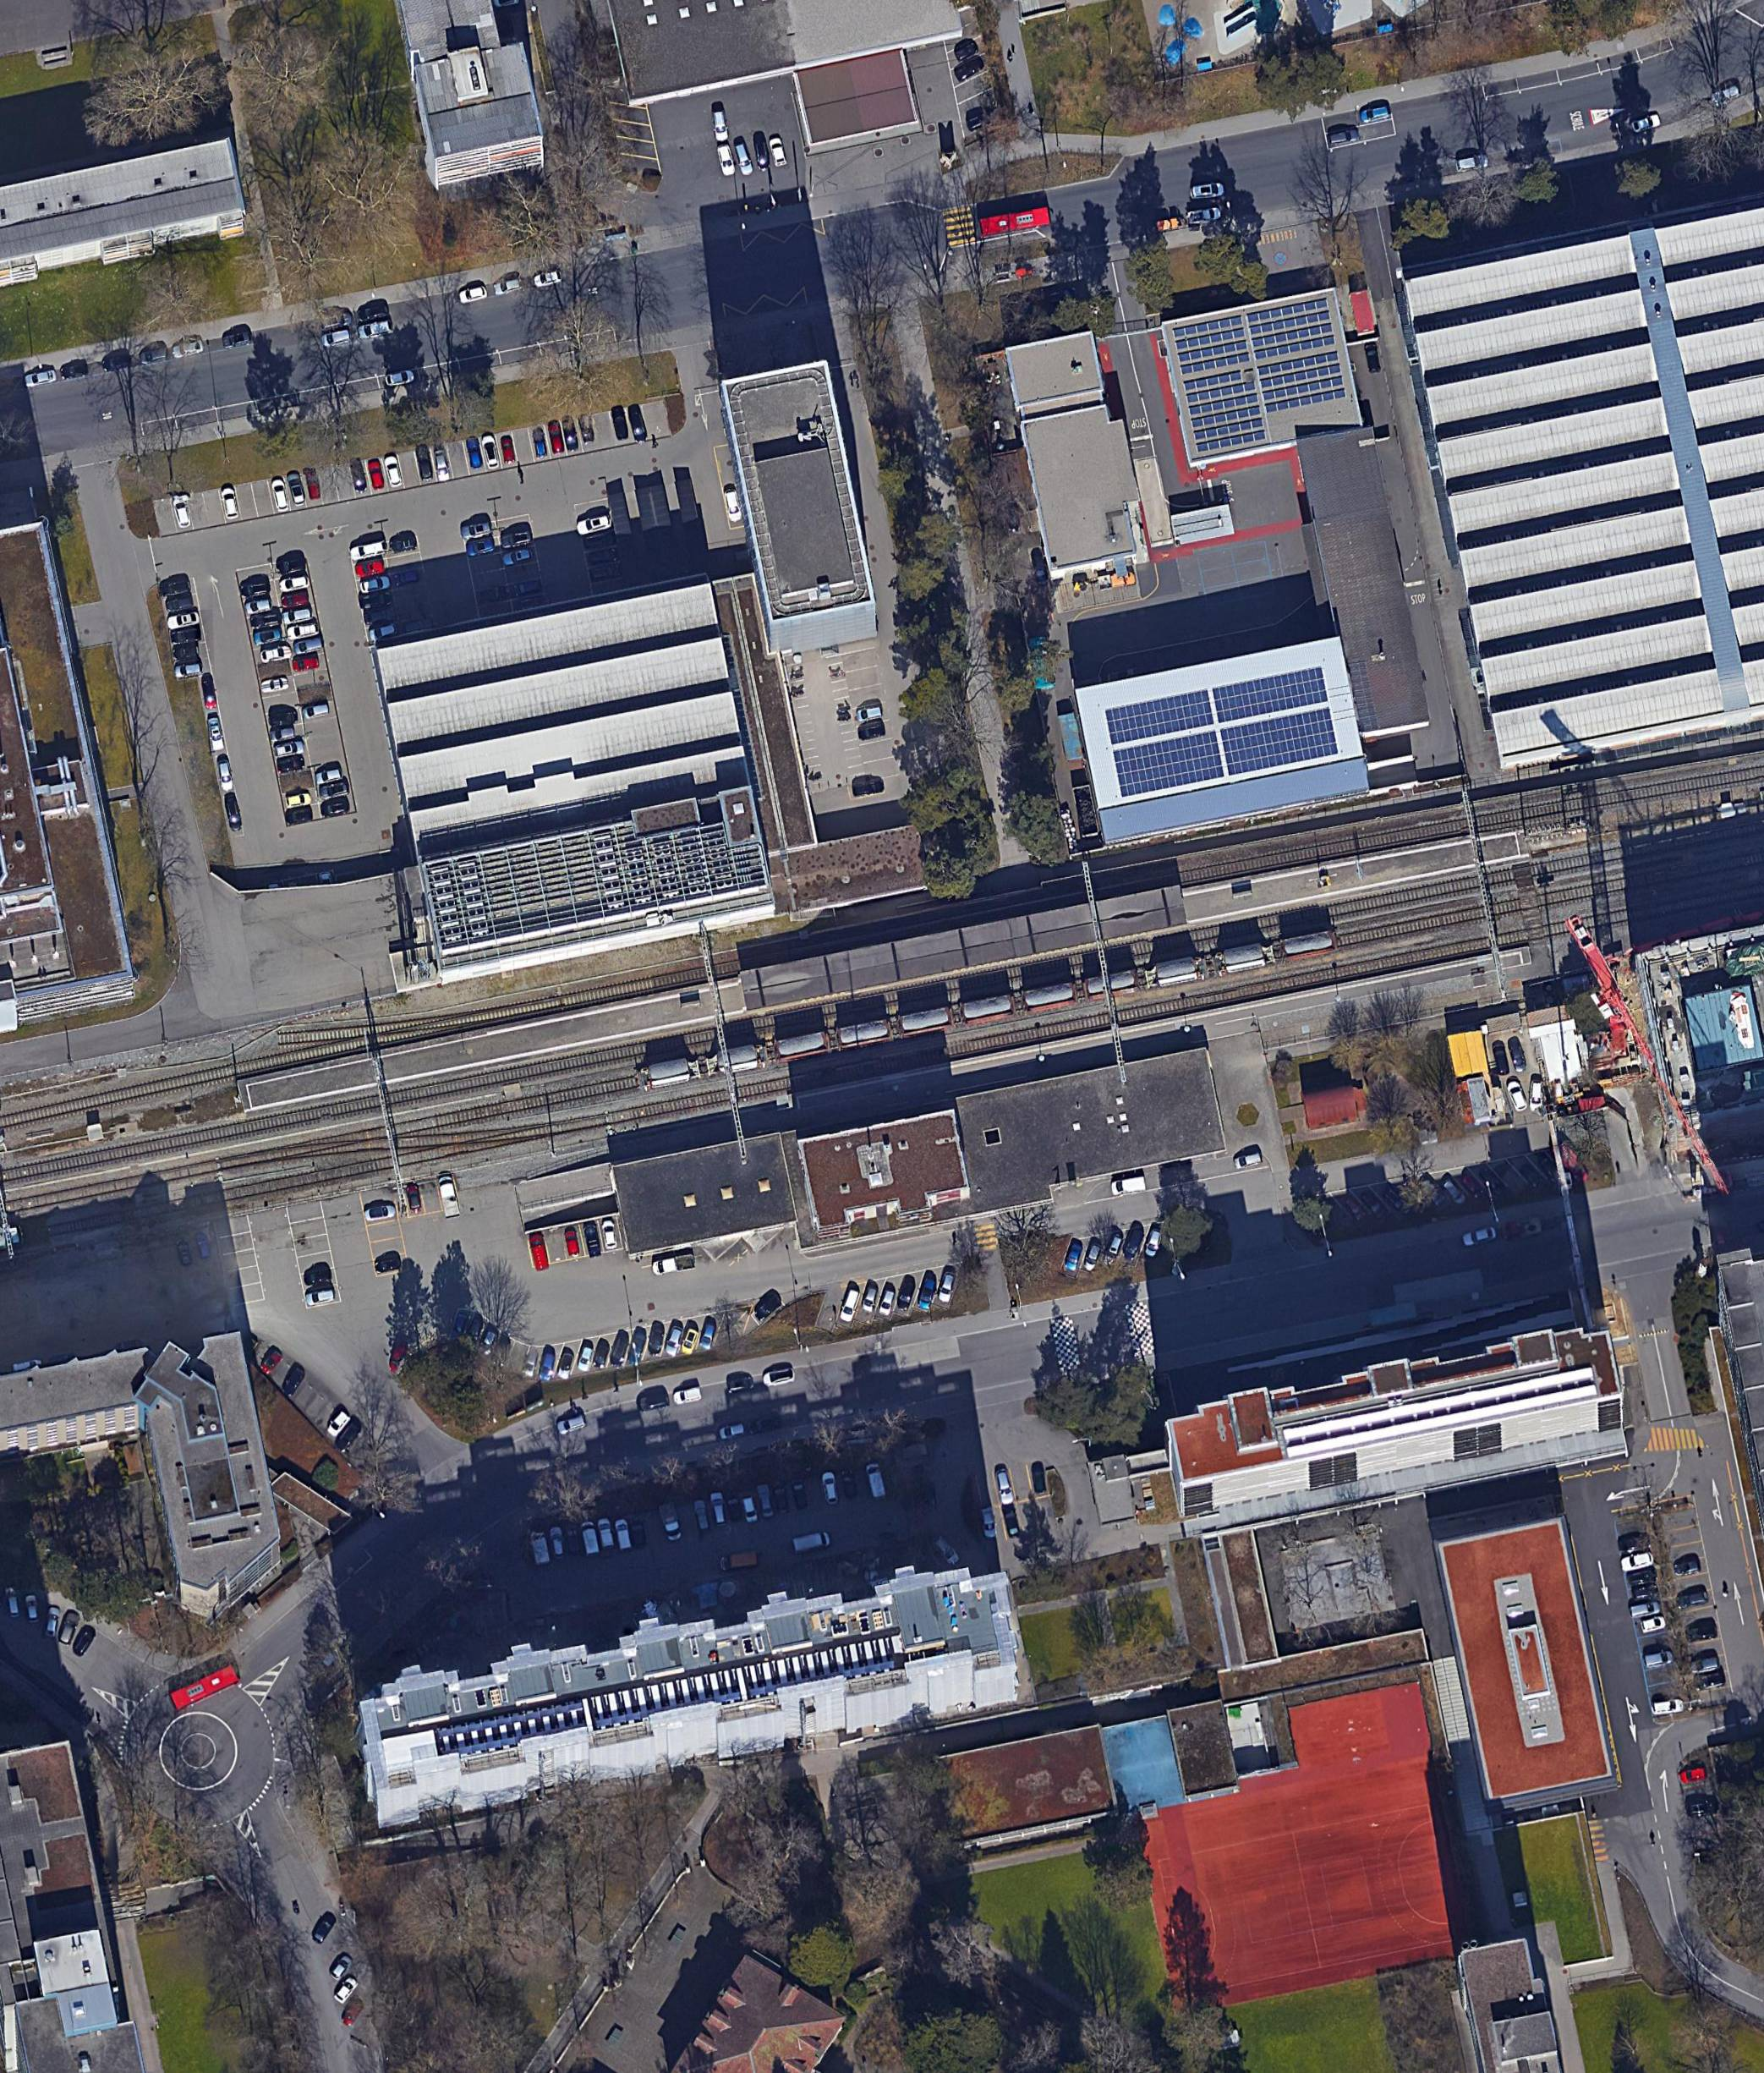large vehicle: (170, 1665, 240, 1709), (978, 207, 1052, 238), (791, 1530, 833, 1557), (658, 1502, 684, 1542), (651, 1254, 696, 1276), (438, 1175, 460, 1219), (717, 1551, 760, 1574), (528, 1231, 551, 1271), (1109, 1175, 1146, 1198), (865, 1464, 887, 1499), (530, 1532, 551, 1567), (579, 1521, 600, 1557), (614, 1520, 633, 1551), (597, 1518, 616, 1548)
roundabout: (156, 1712, 242, 1795)
small vehicle: (311, 1912, 338, 1945), (72, 1625, 98, 1658), (627, 404, 649, 441), (334, 1423, 362, 1451), (340, 1998, 368, 2026), (332, 1975, 359, 2005), (481, 434, 502, 471), (168, 609, 201, 632), (58, 1611, 81, 1644), (415, 445, 434, 481), (1188, 182, 1225, 201), (287, 474, 308, 508), (609, 406, 630, 439), (578, 515, 611, 536), (327, 1409, 352, 1437), (282, 1367, 306, 1395), (329, 1954, 354, 1982), (357, 320, 392, 340), (362, 1205, 397, 1224), (628, 1331, 648, 1366), (840, 1287, 859, 1322), (352, 541, 387, 560), (173, 497, 194, 529), (219, 488, 240, 520), (555, 1415, 586, 1436), (665, 1325, 686, 1357), (224, 798, 243, 832), (458, 522, 492, 541), (501, 531, 534, 550), (609, 1338, 630, 1367), (896, 1280, 917, 1310), (1187, 208, 1222, 226), (318, 313, 354, 331), (359, 594, 394, 611), (432, 450, 452, 481), (58, 362, 89, 382), (101, 354, 133, 373), (681, 1325, 700, 1357), (359, 576, 390, 595), (280, 574, 311, 594), (464, 438, 483, 469), (262, 1348, 285, 1374), (385, 455, 403, 488), (217, 760, 235, 793), (261, 646, 294, 664), (25, 371, 58, 389), (171, 340, 205, 357), (271, 478, 289, 511), (276, 756, 306, 776), (350, 462, 369, 492), (1064, 1243, 1083, 1273), (206, 718, 224, 749), (919, 1278, 936, 1310), (171, 627, 200, 646), (261, 676, 289, 695), (467, 538, 495, 557), (285, 625, 318, 641), (564, 418, 579, 452), (354, 562, 387, 578), (165, 595, 194, 613), (161, 580, 191, 597), (275, 741, 305, 758), (305, 471, 322, 501), (359, 305, 388, 322), (385, 369, 415, 387), (373, 1257, 403, 1275), (539, 1353, 556, 1383), (674, 1387, 704, 1404), (648, 1325, 665, 1355), (940, 1273, 957, 1303), (1144, 1229, 1162, 1259), (548, 424, 565, 453), (504, 550, 534, 567), (576, 1346, 595, 1373), (698, 1324, 717, 1350), (1083, 1245, 1103, 1271), (305, 1290, 336, 1306), (392, 571, 424, 587), (201, 681, 219, 709), (245, 599, 273, 616), (292, 657, 320, 674), (224, 333, 252, 350), (322, 331, 350, 348), (861, 1287, 879, 1315), (1234, 1154, 1262, 1171), (250, 615, 280, 630), (296, 639, 325, 655), (501, 436, 516, 466), (369, 625, 399, 641), (388, 538, 418, 553), (44, 1607, 59, 1637), (25, 1595, 40, 1625), (7, 1588, 21, 1621), (256, 630, 282, 648), (269, 727, 296, 744), (556, 1353, 574, 1380), (591, 1343, 609, 1369), (880, 1290, 898, 1317), (369, 460, 385, 488), (142, 348, 170, 364), (284, 609, 311, 625), (532, 429, 548, 457), (317, 769, 341, 786), (278, 560, 308, 574), (173, 644, 200, 660), (242, 583, 268, 599), (285, 793, 311, 809), (287, 809, 313, 825), (320, 783, 347, 798), (303, 706, 329, 721), (579, 417, 595, 443), (282, 594, 310, 608), (324, 802, 348, 818), (175, 664, 201, 678)
